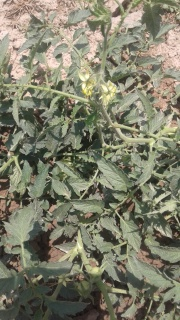tomato flower: (70, 64, 120, 101), (74, 65, 99, 98), (100, 78, 119, 105)
tomato plant: (12, 37, 180, 305)
